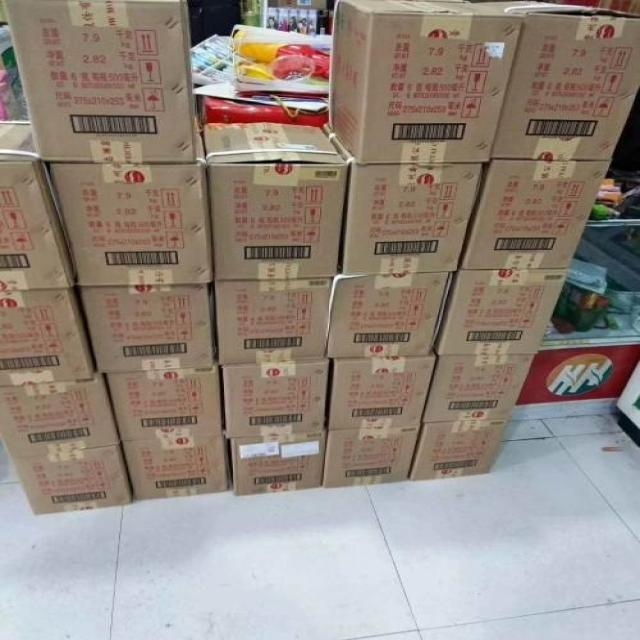box: (326, 0, 526, 165), (3, 0, 198, 161), (46, 123, 215, 288), (466, 2, 639, 161), (325, 128, 487, 276), (202, 122, 350, 283), (462, 158, 610, 272), (0, 116, 80, 289), (81, 283, 215, 373), (436, 267, 570, 356), (326, 272, 455, 360), (211, 277, 335, 364), (0, 377, 122, 458), (0, 289, 96, 389), (104, 366, 225, 443), (217, 360, 333, 438), (12, 445, 134, 515), (328, 356, 438, 428), (122, 434, 232, 503), (423, 356, 536, 423), (232, 430, 330, 495), (322, 426, 421, 488), (408, 421, 510, 481)
